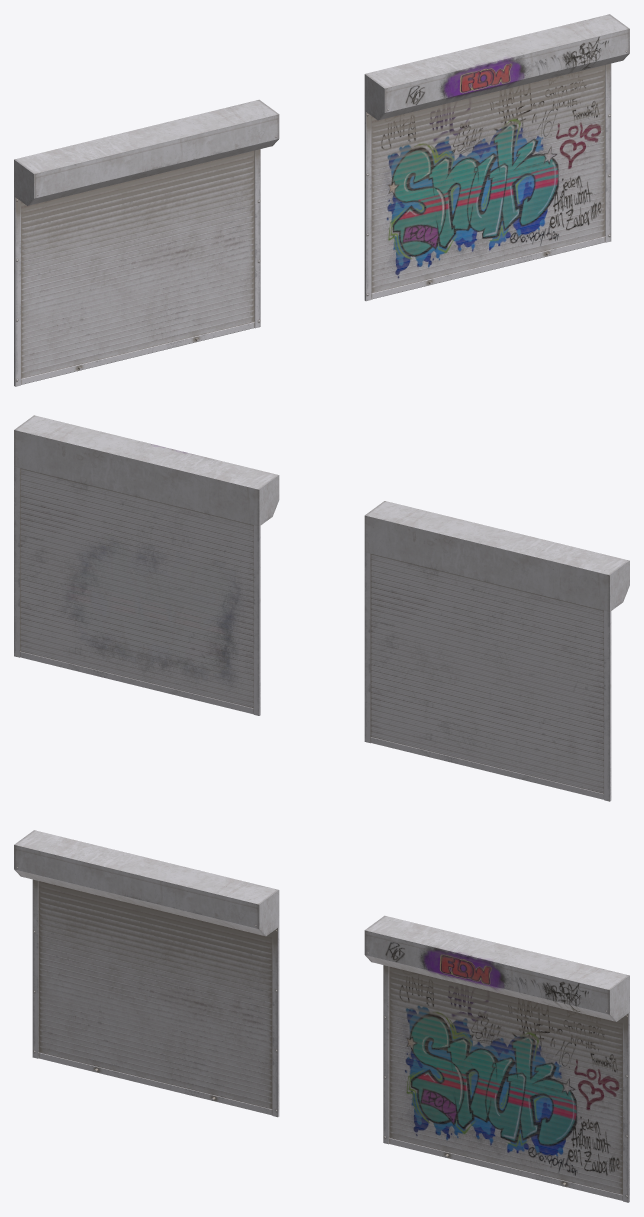
File: rollershutter_window_01.glb
3 views of the same model, one above another, from view 1: azimuth 30°, elevation 25°; view 2: azimuth 150°, elevation 25°; view 3: azimuth 330°, elevation 25° (orthographic).
Visible parts, largest first — view 1: rollershutter_window_01_graffiti, rollershutter_window_01; view 2: rollershutter_window_01, rollershutter_window_01_graffiti; view 3: rollershutter_window_01, rollershutter_window_01_graffiti.
Boxes of the visible parts, bbox=[...] form: rollershutter_window_01_graffiti: bbox=[364, 14, 629, 301]; rollershutter_window_01: bbox=[14, 99, 279, 386]; rollershutter_window_01: bbox=[364, 501, 629, 801]; rollershutter_window_01_graffiti: bbox=[14, 415, 279, 715]; rollershutter_window_01: bbox=[14, 830, 279, 1117]; rollershutter_window_01_graffiti: bbox=[364, 915, 629, 1202].
Size of the model in its own units: 5.1 by 1.85 by 0.3001.
2 materials, 2 textured.
